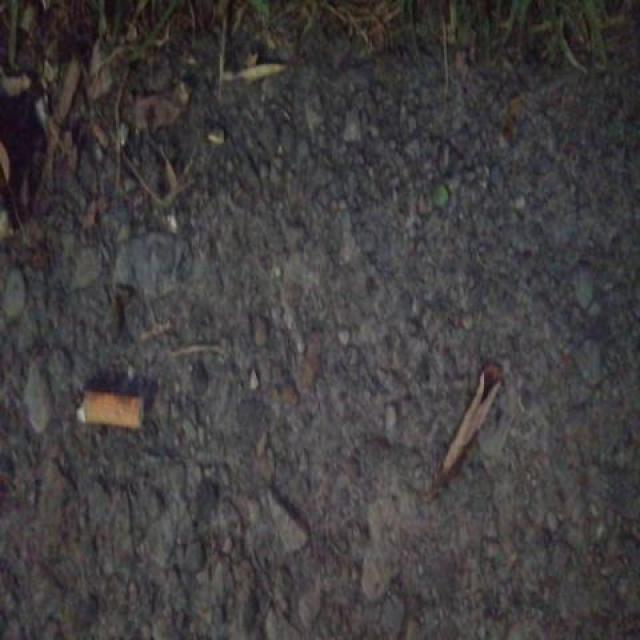non-organic waste: (69, 387, 147, 432)
